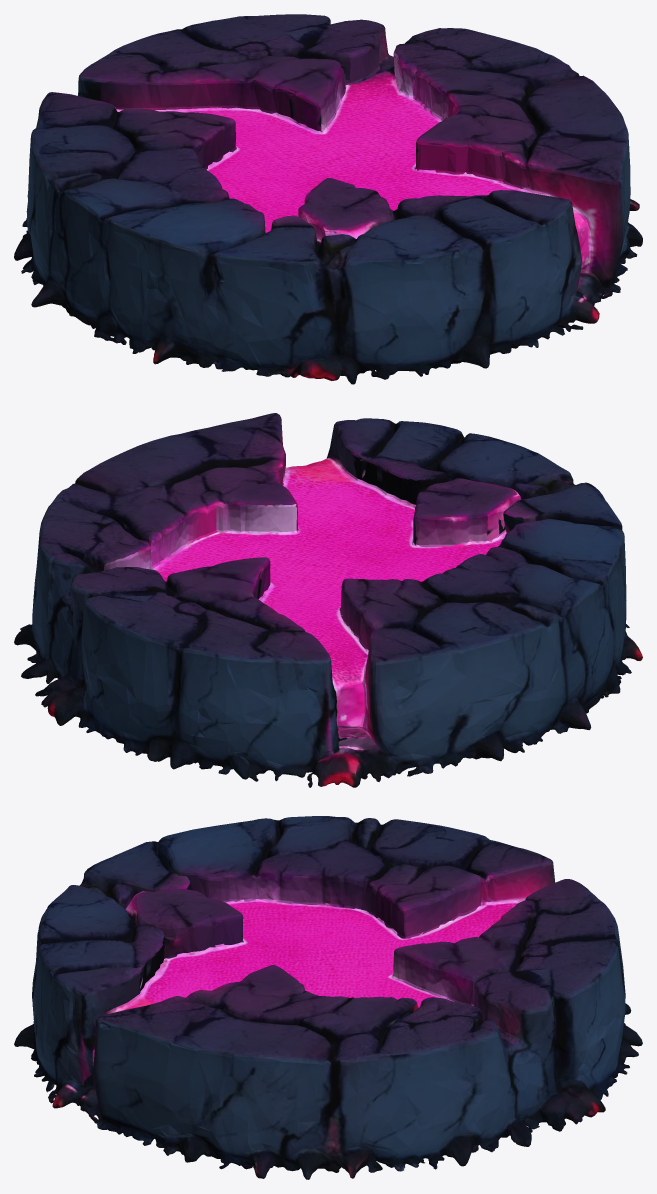
The model's file is world-root-basin-generated-2026-04-19T16-38-34-252Z.medium.glb.
3 renders of one model, top to bottom at view 1: azimuth 30°, elevation 25°; view 2: azimuth 150°, elevation 25°; view 3: azimuth 270°, elevation 25°, orthographic. The views are drawn at different scales.
Visible parts, largest first — view 1: temp_mesh.ply; view 2: temp_mesh.ply; view 3: temp_mesh.ply.
Boxes of the visible parts, <box> form: temp_mesh.ply: <box>14,14,642,384</box>; temp_mesh.ply: <box>14,413,642,787</box>; temp_mesh.ply: <box>14,816,642,1179</box>.
Size of the model in its own units: 1.97 by 0.4128 by 1.97.
1 material, 1 textured.
